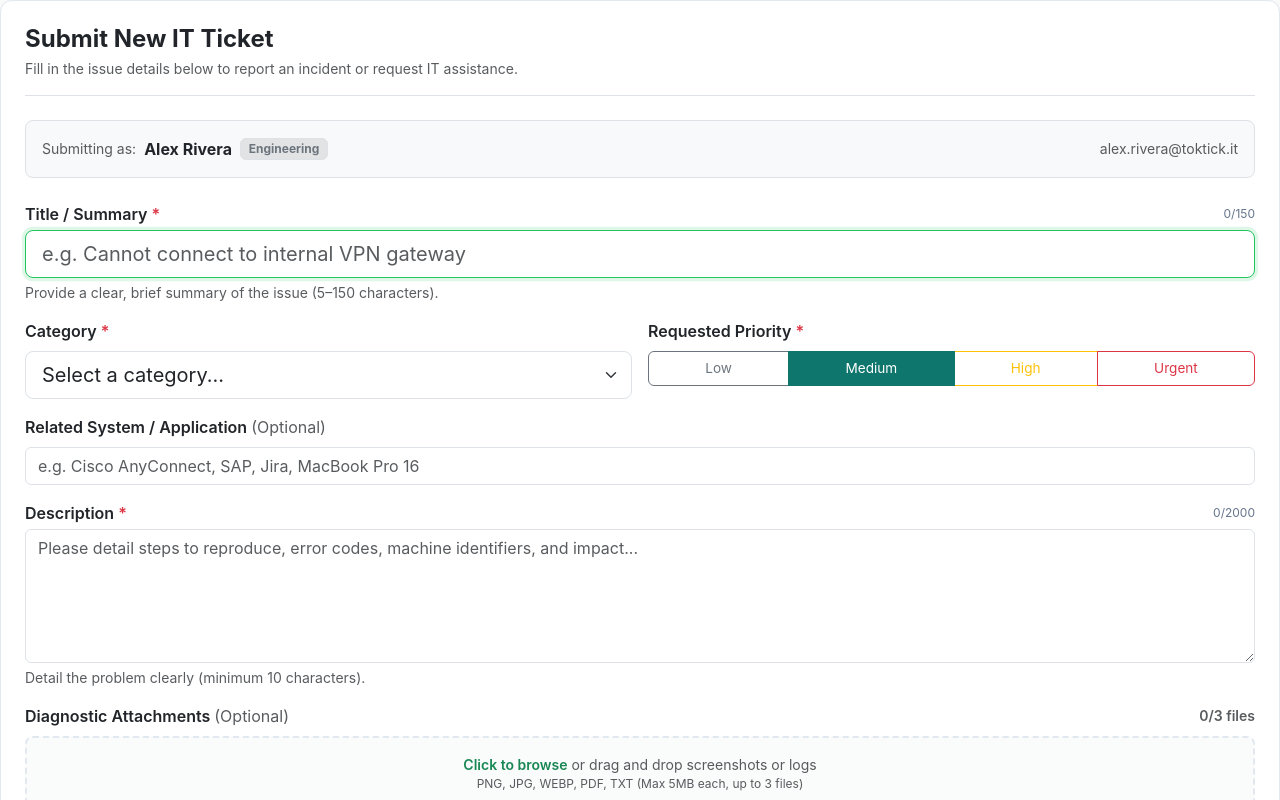
Scenario: Lab 2 — CreateTicketScreen Component › updates character counters dynamically as user types
Expected: the text with test id "title-char-counter" reads "0/150", [1224,205,1255,223]
Expected: the text with test id "description-char-counter" reads "0/2000", [1213,504,1255,522]
Type "VPN issue" into the field with test id "ticket-title-input" at point(640, 254), box [25,230,1255,278]
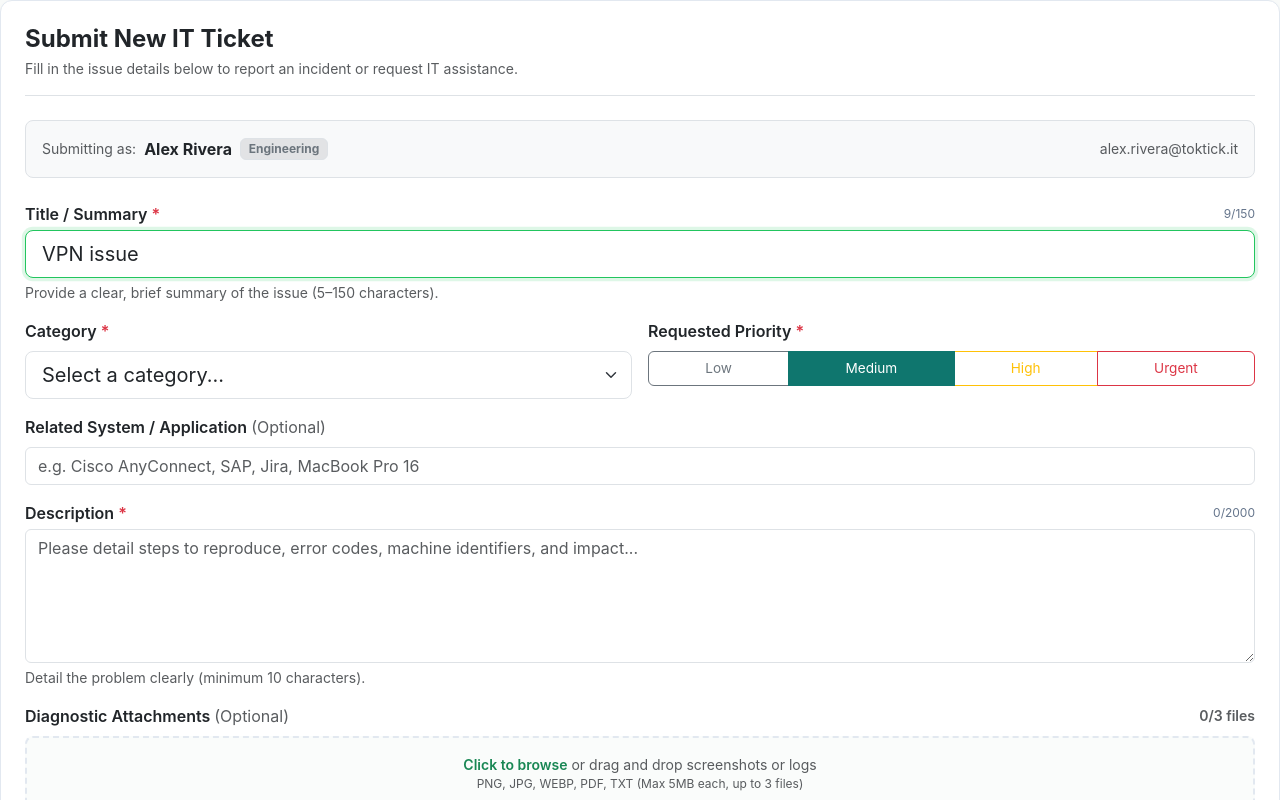
Type "Cannot connect to the gateway server." into the text box with test id "ticket-description-input" at point(640, 596), box [25,529,1255,663]
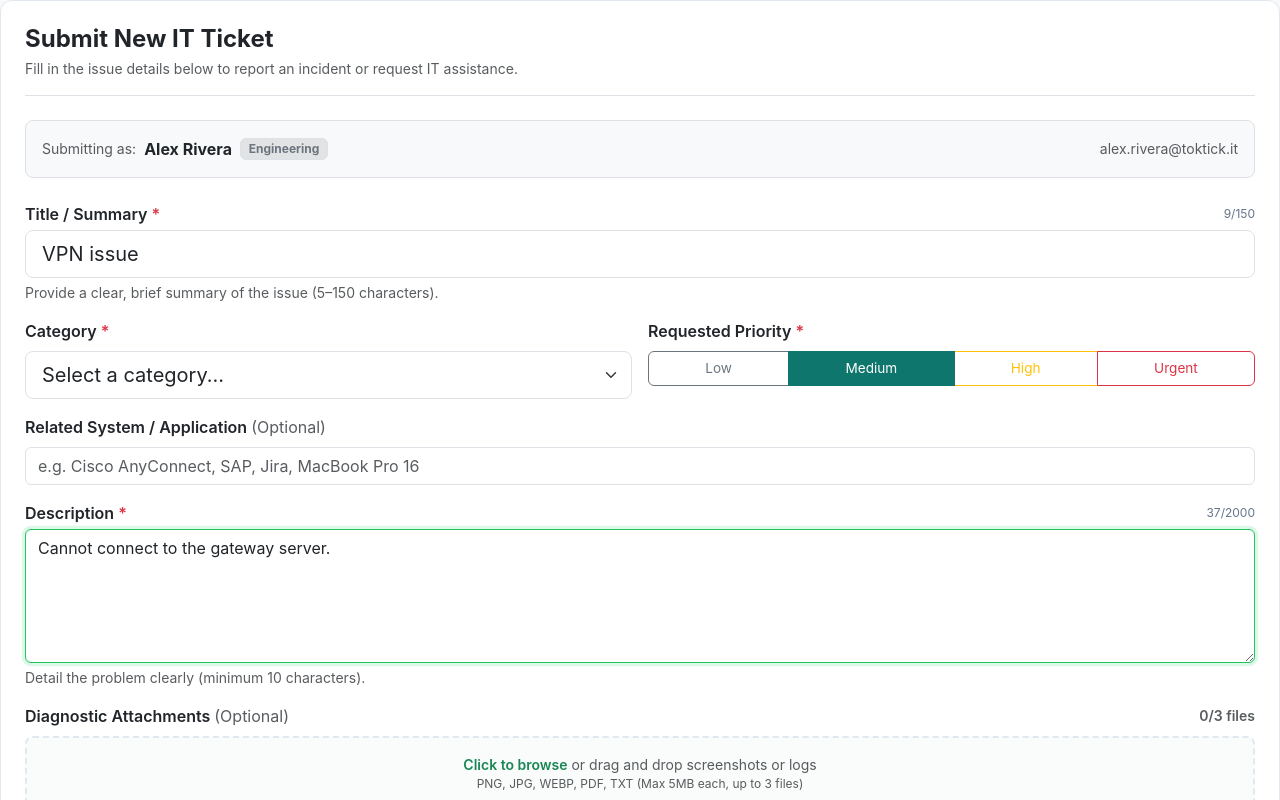
Result: the text with test id "title-char-counter" reads "9/150" at [1224,205,1255,223]
Result: the text with test id "description-char-counter" reads "37/2000" at [1206,504,1255,522]
